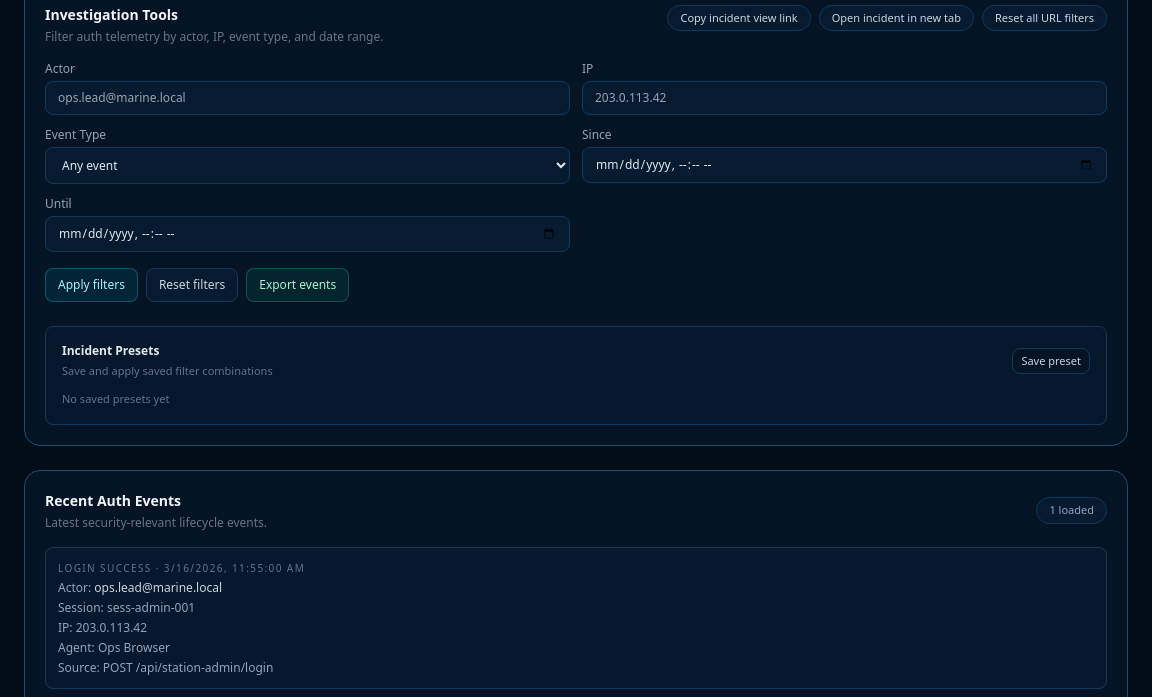
Test: security console rejects duplicate or empty preset names safely
(page scrolled)
Click the button "Save preset" at (1051, 361), box [1012,348,1090,374]
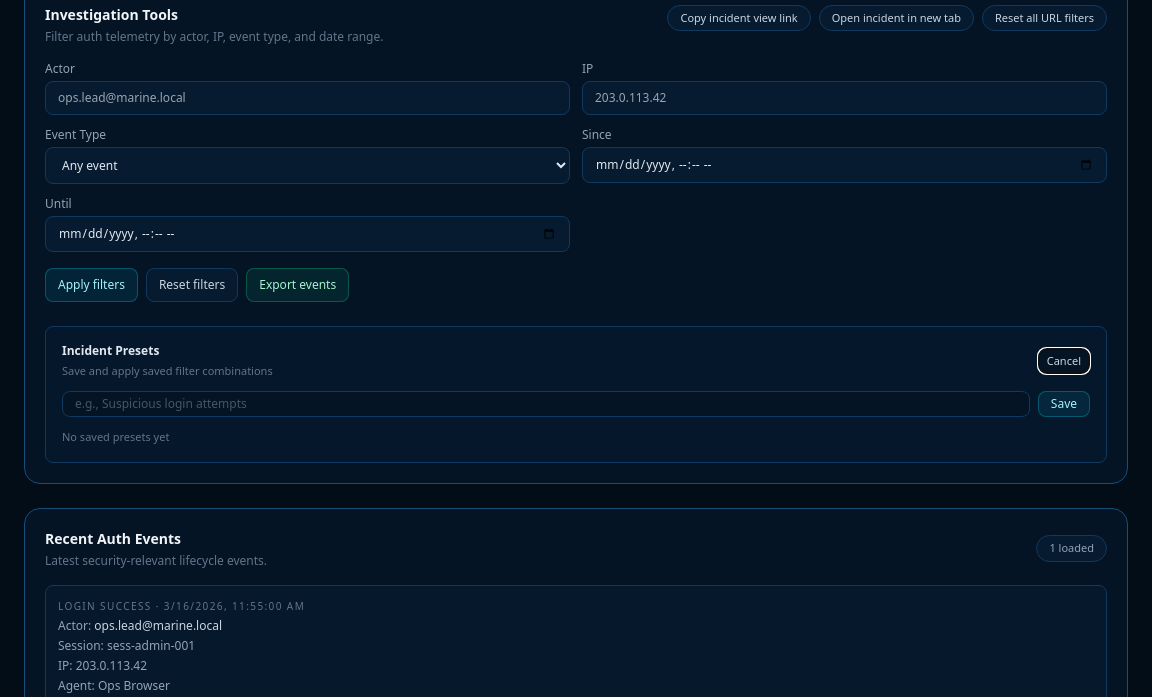
Type "Duplicate Name" into the field with placeholder "e.g., Suspicious login attempts" at (546, 404), box [62,391,1030,417]
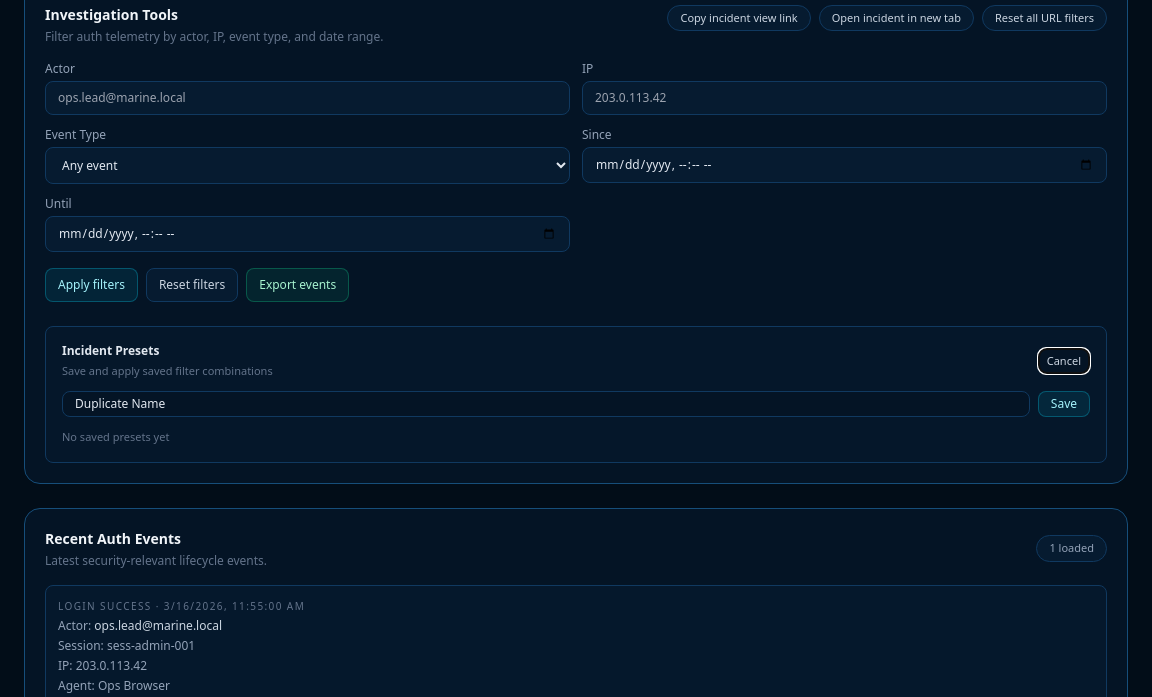
Click the button "Save" at (1064, 404), box [1038,391,1090,417]
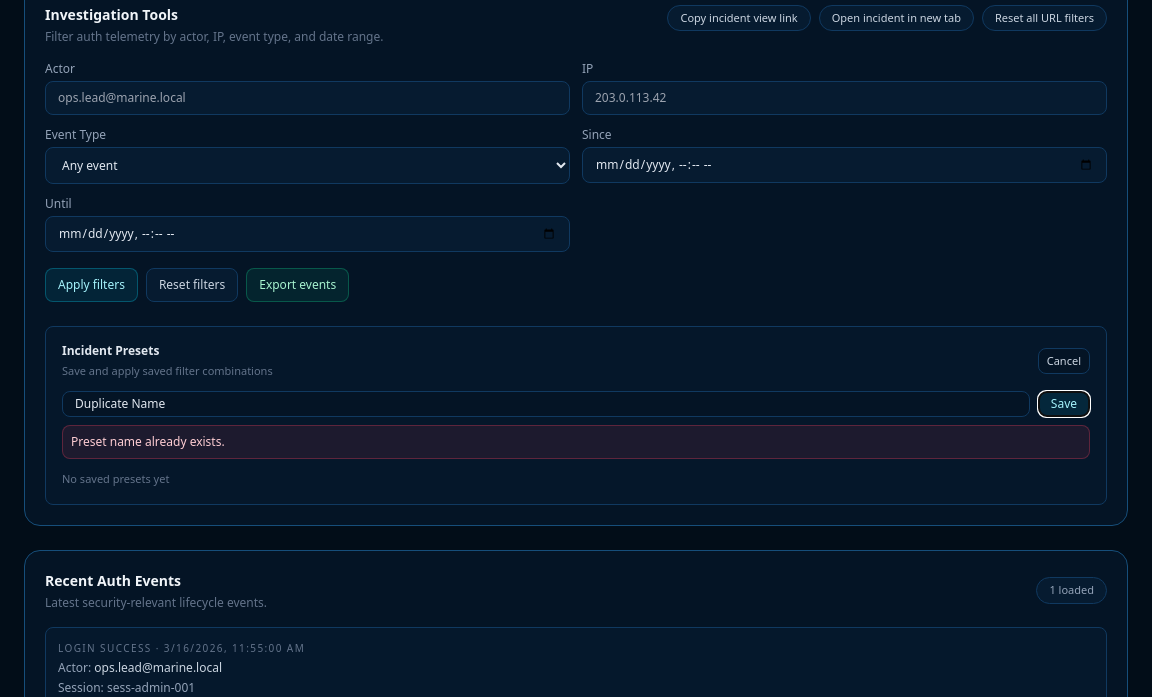
expect the text "Preset name already exists." is shown: met, box [62,425,1090,459]
